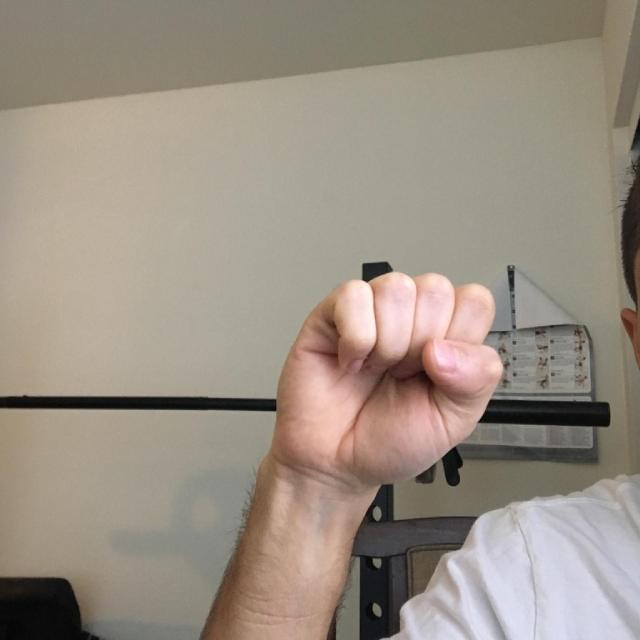E: (240, 224, 540, 548)
